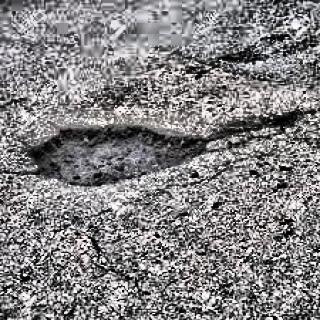crack: (20, 118, 222, 189)
